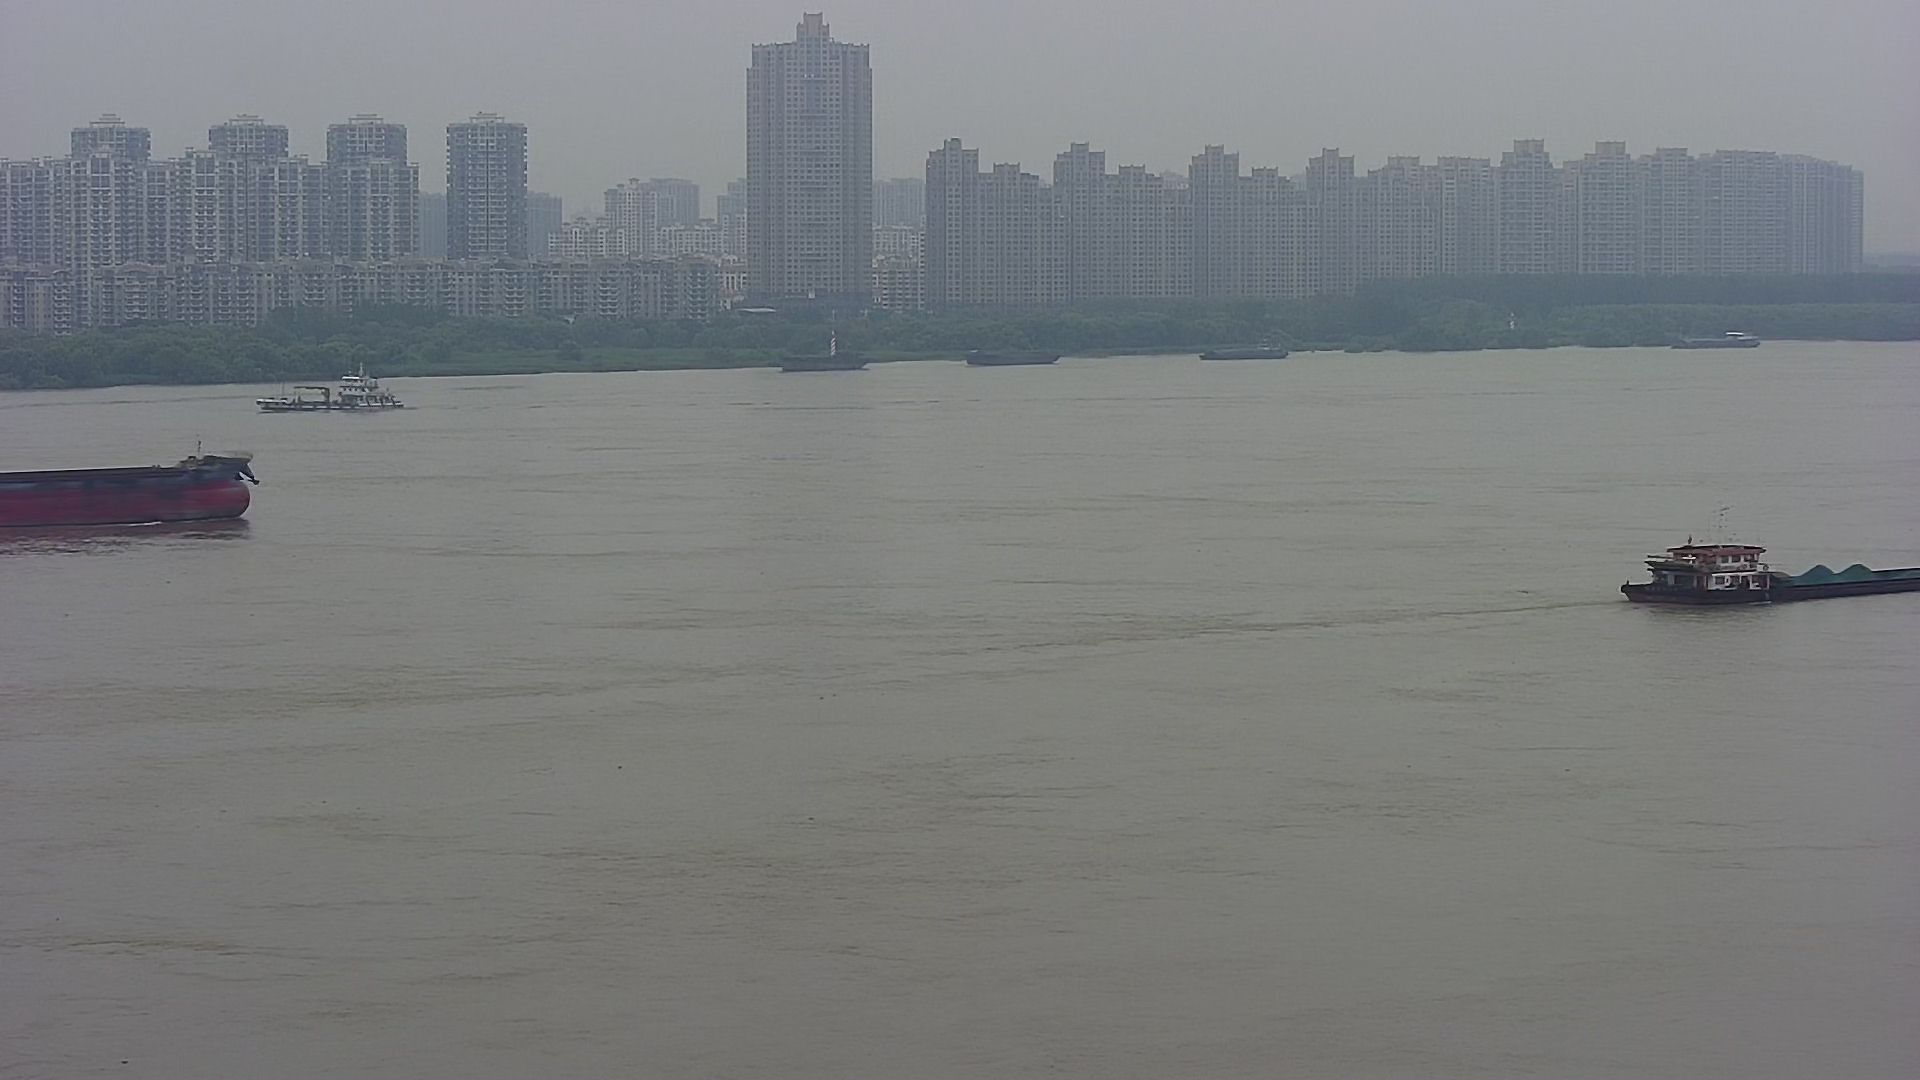ship: (1609, 501, 1920, 632), (1, 434, 262, 539), (253, 351, 425, 422), (961, 334, 1065, 376), (770, 340, 882, 378), (1193, 335, 1302, 375), (1660, 324, 1770, 359)
